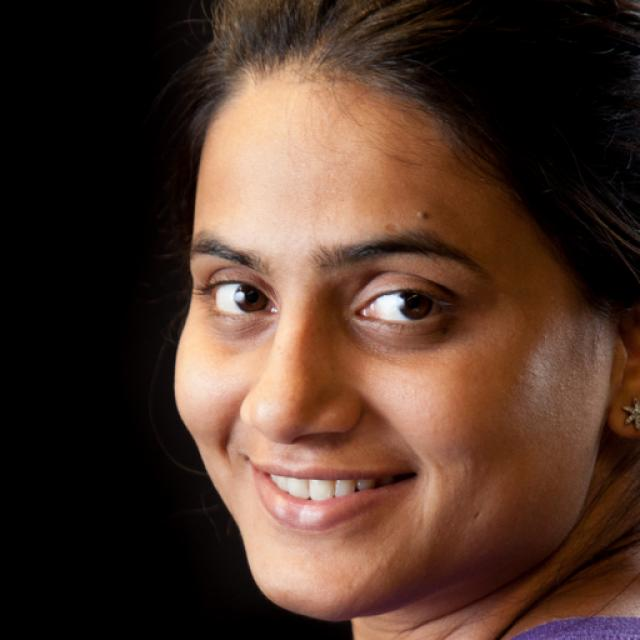Acne: (407, 205, 432, 225)
Dark Circle: (340, 315, 454, 361), (209, 318, 275, 350)
